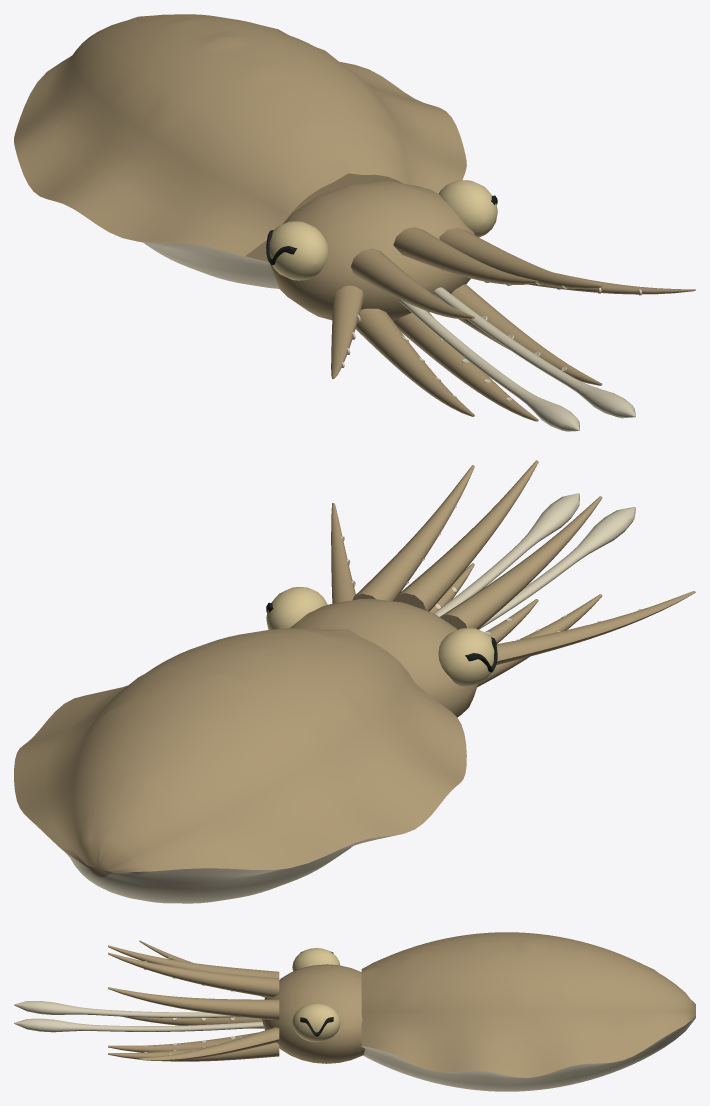
3 views of the same model, one above another, from view 1: azimuth 30°, elevation 25°; view 2: azimuth 150°, elevation 25°; view 3: azimuth 270°, elevation 25° (orthographic). The views are drawn at different scales.
Parts seen in each view (by area): view 1: Broad_mantle_with_integrated_lateral_fin_skirt, Attached_head_and_closed_arm_crown, Arm_05_attached_complete_skin, Arm_06_attached_complete_skin, Arm_02_attached_complete_skin, Right_attached_feeding_tentacle_with_club, Arm_03_attached_complete_skin, Left_attached_feeding_tentacle_with_club, Arm_01_attached_complete_skin, Left_seated_eye, Arm_07_attached_complete_skin, Right_seated_eye (+2 smaller); view 2: Broad_mantle_with_integrated_lateral_fin_skirt, Attached_head_and_closed_arm_crown, Arm_02_attached_complete_skin, Arm_03_attached_complete_skin, Arm_01_attached_complete_skin, Arm_04_attached_complete_skin, Right_attached_feeding_tentacle_with_club, Left_seated_eye, Left_attached_feeding_tentacle_with_club, Right_seated_eye, Arm_00_attached_complete_skin, Arm_05_attached_complete_skin; view 3: Broad_mantle_with_integrated_lateral_fin_skirt, Attached_head_and_closed_arm_crown, Arm_01_attached_complete_skin, Arm_02_attached_complete_skin, Right_attached_feeding_tentacle_with_club, Left_attached_feeding_tentacle_with_club, Arm_00_attached_complete_skin, Right_seated_eye, Arm_07_attached_complete_skin, Arm_03_attached_complete_skin, Arm_06_attached_complete_skin, Arm_05_attached_complete_skin (+1 smaller).
Boxes of the visible parts, bbox=[...] form: Broad_mantle_with_integrated_lateral_fin_skirt: bbox=[14, 14, 466, 288]; Attached_head_and_closed_arm_crown: bbox=[269, 181, 475, 321]; Arm_05_attached_complete_skin: bbox=[355, 308, 474, 416]; Arm_06_attached_complete_skin: bbox=[393, 310, 538, 421]; Arm_02_attached_complete_skin: bbox=[393, 227, 538, 284]; Right_attached_feeding_tentacle_with_club: bbox=[433, 287, 635, 418]; Arm_03_attached_complete_skin: bbox=[351, 248, 474, 319]; Left_attached_feeding_tentacle_with_club: bbox=[399, 299, 579, 431]; Arm_01_attached_complete_skin: bbox=[439, 227, 602, 289]; Left_seated_eye: bbox=[269, 221, 328, 280]; Arm_07_attached_complete_skin: bbox=[451, 284, 602, 385]; Right_seated_eye: bbox=[439, 180, 497, 237]; Broad_mantle_with_integrated_lateral_fin_skirt: bbox=[14, 628, 466, 903]; Attached_head_and_closed_arm_crown: bbox=[289, 598, 478, 717]; Arm_02_attached_complete_skin: bbox=[394, 460, 538, 611]; Arm_03_attached_complete_skin: bbox=[440, 496, 602, 629]; Arm_01_attached_complete_skin: bbox=[352, 465, 474, 601]; Arm_04_attached_complete_skin: bbox=[496, 591, 695, 664]; Right_attached_feeding_tentacle_with_club: bbox=[434, 493, 579, 616]; Left_seated_eye: bbox=[438, 628, 494, 687]; Left_attached_feeding_tentacle_with_club: bbox=[478, 507, 635, 629]; Right_seated_eye: bbox=[266, 587, 327, 629]; Arm_00_attached_complete_skin: bbox=[331, 503, 355, 603]; Arm_05_attached_complete_skin: bbox=[477, 594, 602, 687]; Broad_mantle_with_integrated_lateral_fin_skirt: bbox=[361, 932, 695, 1091]; Attached_head_and_closed_arm_crown: bbox=[262, 964, 365, 1063]; Arm_01_attached_complete_skin: bbox=[108, 987, 279, 1019]; Arm_02_attached_complete_skin: bbox=[108, 952, 279, 997]; Right_attached_feeding_tentacle_with_club: bbox=[14, 1018, 263, 1032]; Left_attached_feeding_tentacle_with_club: bbox=[14, 1001, 242, 1018]; Arm_00_attached_complete_skin: bbox=[139, 1027, 279, 1060]; Right_seated_eye: bbox=[292, 1003, 340, 1042]; Arm_07_attached_complete_skin: bbox=[108, 1042, 279, 1061]; Arm_03_attached_complete_skin: bbox=[108, 945, 279, 977]; Arm_06_attached_complete_skin: bbox=[108, 1032, 258, 1052]; Arm_05_attached_complete_skin: bbox=[122, 1016, 264, 1028].
Bounding box in the file's own units: 0.384 × 0.1928 × 0.877.
